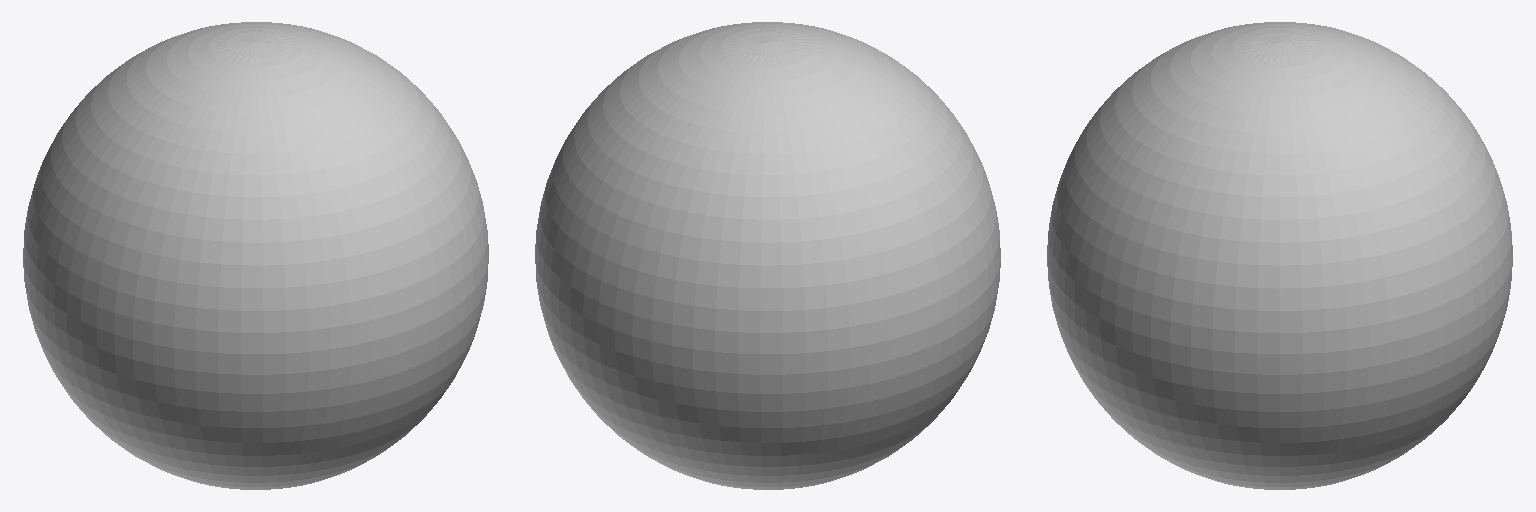
Rendered from background_sphere.obj.
The picture shows the model from 3 angles: view 1: azimuth 30°, elevation 25°; view 2: azimuth 150°, elevation 25°; view 3: azimuth 270°, elevation 25°; orthographic projection.
Parts seen in each view (by area): view 1: Sphere; view 2: Sphere; view 3: Sphere.
Boxes of the visible parts, x1,y1,x2,y2 form: Sphere: [23, 22, 488, 489]; Sphere: [535, 22, 1000, 489]; Sphere: [1047, 22, 1512, 489].
Size of the model in its own units: 1.97 by 2 by 1.97.